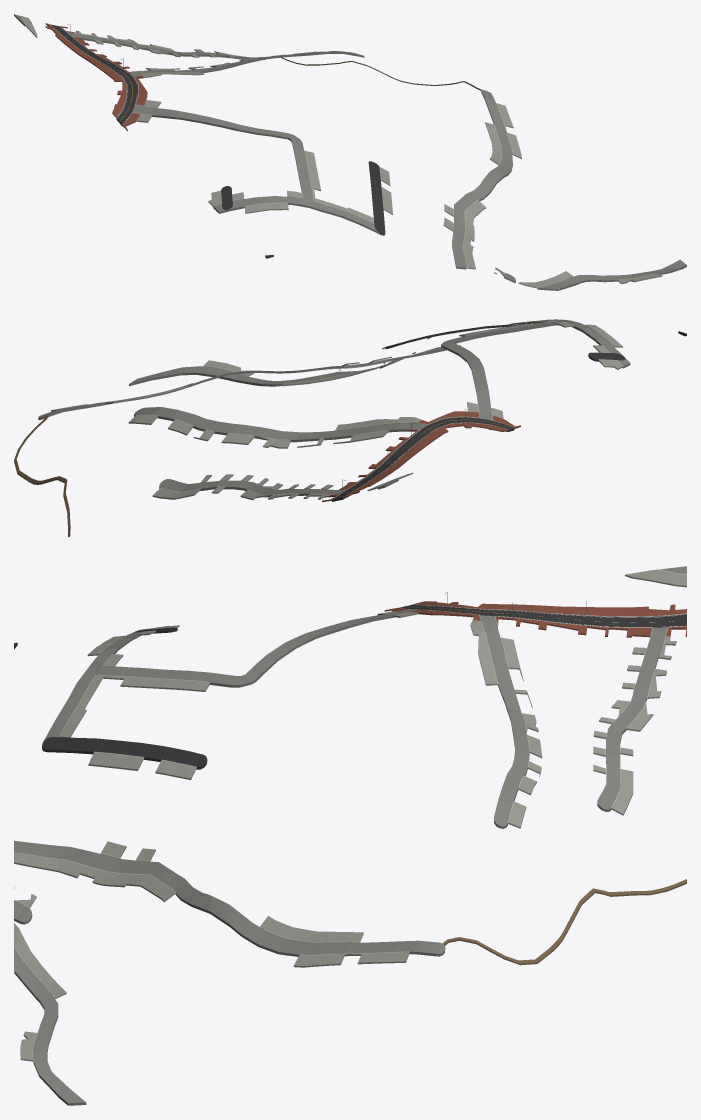
3 renders of one model, top to bottom at view 1: azimuth 30°, elevation 25°; view 2: azimuth 150°, elevation 25°; view 3: azimuth 270°, elevation 25°, orthographic. The views are drawn at different scales.
Bounding box in the file's own units: 295 × 121 × 292.
